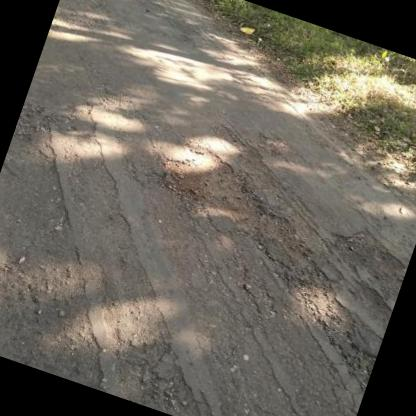pothole: (151, 138, 285, 240), (323, 220, 415, 288)
